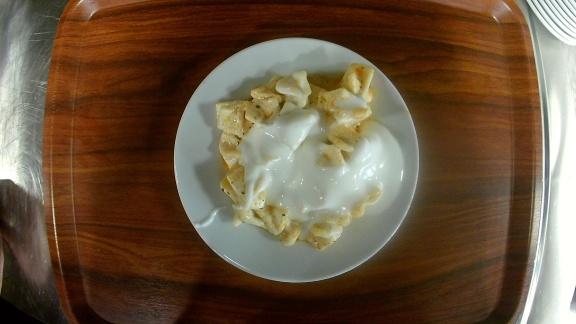manti: (170, 37, 421, 284)
